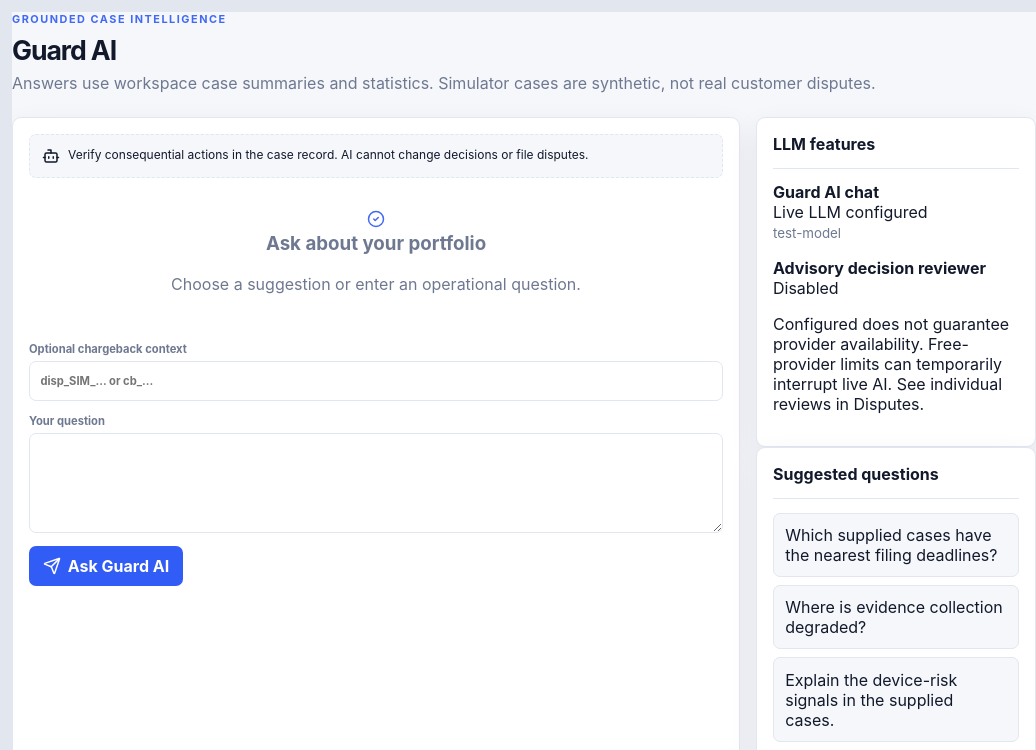
Test: shows an unavailable error and can retry without inventing an answer
Type "Summarize" into the text box labelled "Your question" at (376,483), box [29, 433, 723, 533]
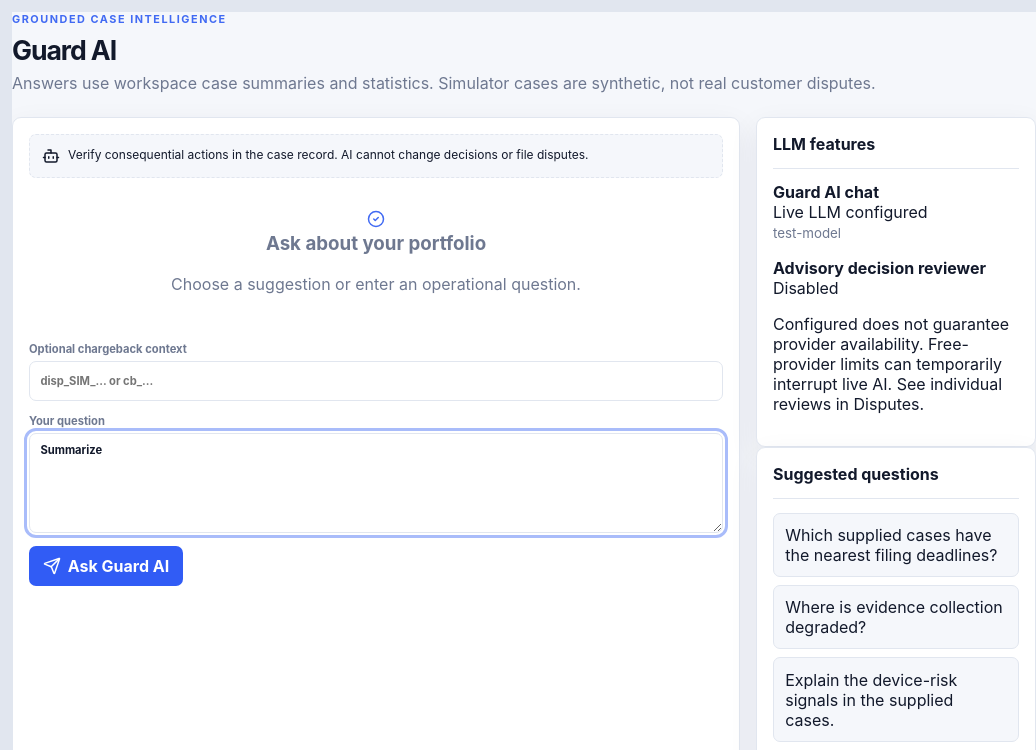
Click the button "Ask Guard AI" at (106,566), box [29, 546, 183, 586]
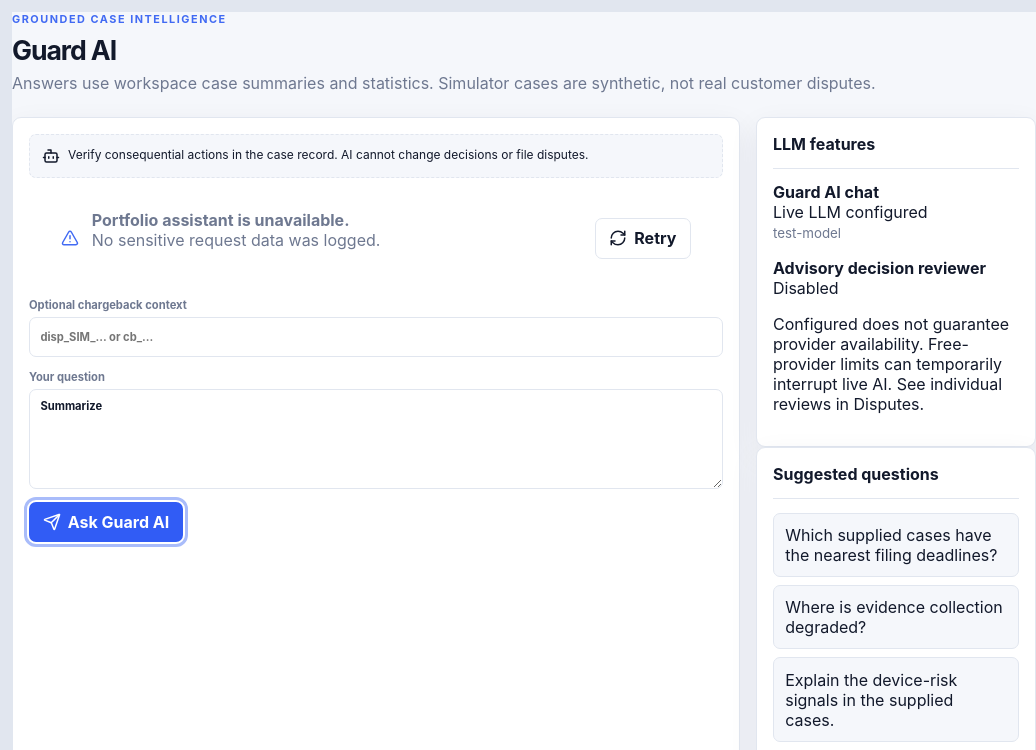
Expected: the message shows "Portfolio assistant is unavailable.", [92, 210, 350, 230]
Click the button "Retry" at (643,238), box [594, 218, 691, 259]
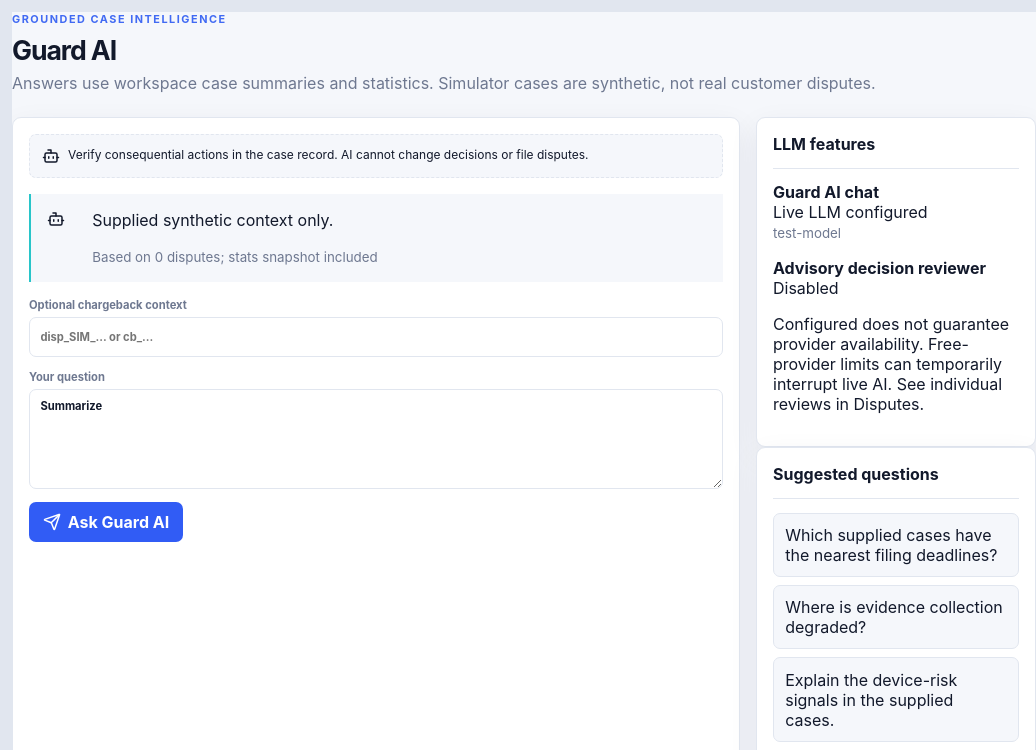
Expected: the text "Supplied synthetic context only." is shown, [92, 210, 334, 230]
